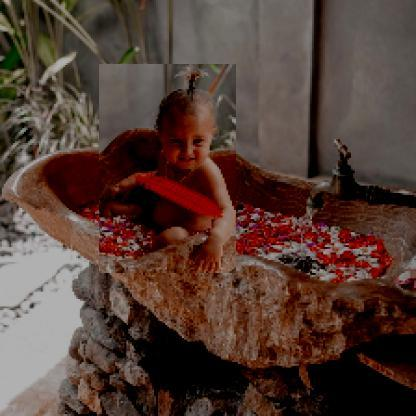child: (100, 65, 238, 275)
